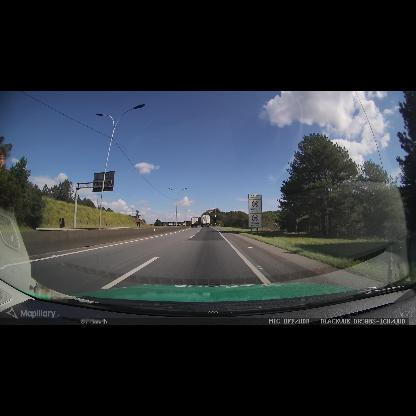I-SA: (248, 194, 262, 199)
O-MP: (219, 223, 220, 226)
R-19: (248, 199, 262, 228)
